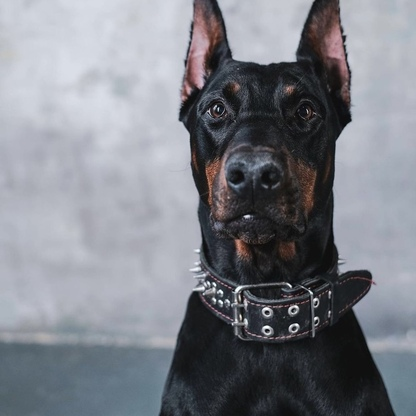doberman: (165, 5, 401, 413)
